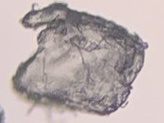microplastic: (9, 2, 150, 119)
